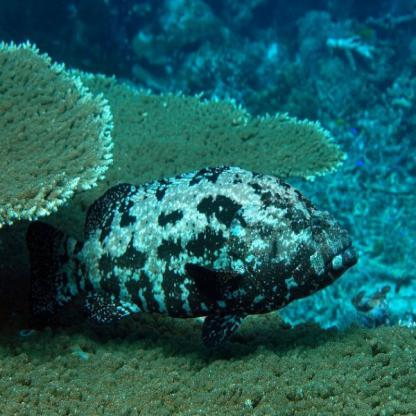Serranidae -Groupers-: (16, 163, 362, 357)
